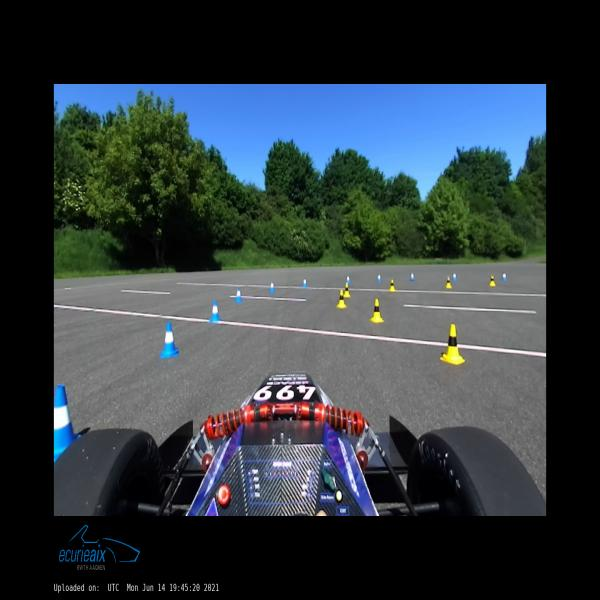blue_cone: (54, 385, 81, 463), (161, 322, 179, 358), (210, 300, 220, 322), (235, 288, 242, 302), (302, 278, 308, 288), (410, 270, 415, 280), (270, 282, 275, 292), (502, 272, 507, 281), (377, 274, 382, 282), (346, 275, 350, 284), (452, 272, 456, 280)
yellow_cone: (440, 324, 465, 365), (370, 299, 384, 323), (337, 290, 346, 308), (344, 283, 351, 298), (390, 279, 396, 292), (489, 275, 496, 286), (446, 277, 452, 289)
